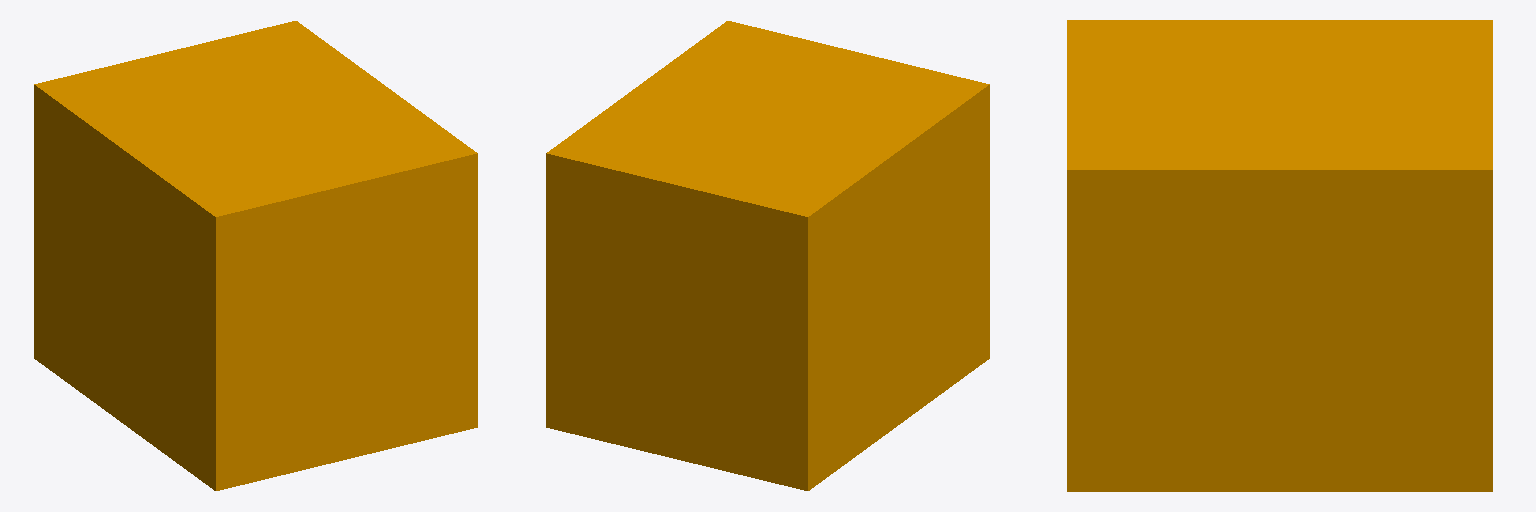
robot.urdf — object:
<robot name="object">
  <link name="object">
    <visual>
      <origin xyz="0 0 0" />
      <geometry>
        <box size="0.08000000000000002 0.09600000000000003 0.08" />
      </geometry>
    </visual>

    <collision>
      <origin xyz="0 0 0" />
      <geometry>
        <box size="0.08000000000000002 0.09600000000000003 0.08" />
      </geometry>
    </collision>

    <inertial>
      <mass value="0.05" />
      <inertia ixx="0.0001" ixy="0.0" ixz="0.0" iyy="0.0001" iyz="0.0" izz="0.0001" />
    </inertial>
  </link>
</robot>

--- What the picture shows (computed from the rendered views, not written in the file) ---
3 views of the same robot in one strip: view 1: azimuth 30°, elevation 25°; view 2: azimuth 150°, elevation 25°; view 3: azimuth 270°, elevation 25° (orthographic).
Robot: object — 1 links, 0 joints (none); root link object; default pose: all joints at 0.
Links seen in each view (by area): view 1: object; view 2: object; view 3: object.
Boxes of the visible links, x1,y1,x2,y2 form: object: (34, 21, 477, 490); object: (546, 21, 989, 490); object: (1067, 20, 1492, 491).
Size in the robot's own frame: 0.08 by 0.096 by 0.08 metres.
Geometry: primitives only (box / cylinder / sphere), no mesh files.